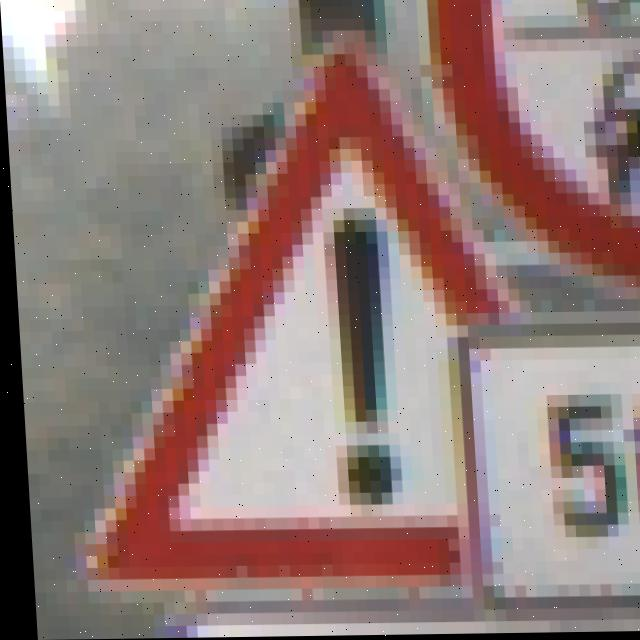speed_limit_50: (457, 334, 640, 634)
warning: (139, 39, 458, 585)
